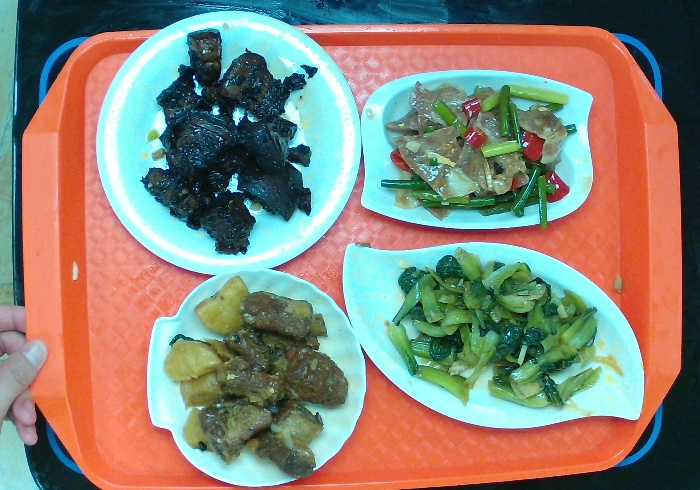RJxy-Bei_Ke_Wan: (145, 265, 369, 489)
RJxy-Jian_Jiao_Fang_Die: (357, 67, 596, 232)
RJxy-Jian_Jiao_Pan: (341, 240, 647, 431)
RJxy-Yuan_Pan: (93, 7, 363, 275)
